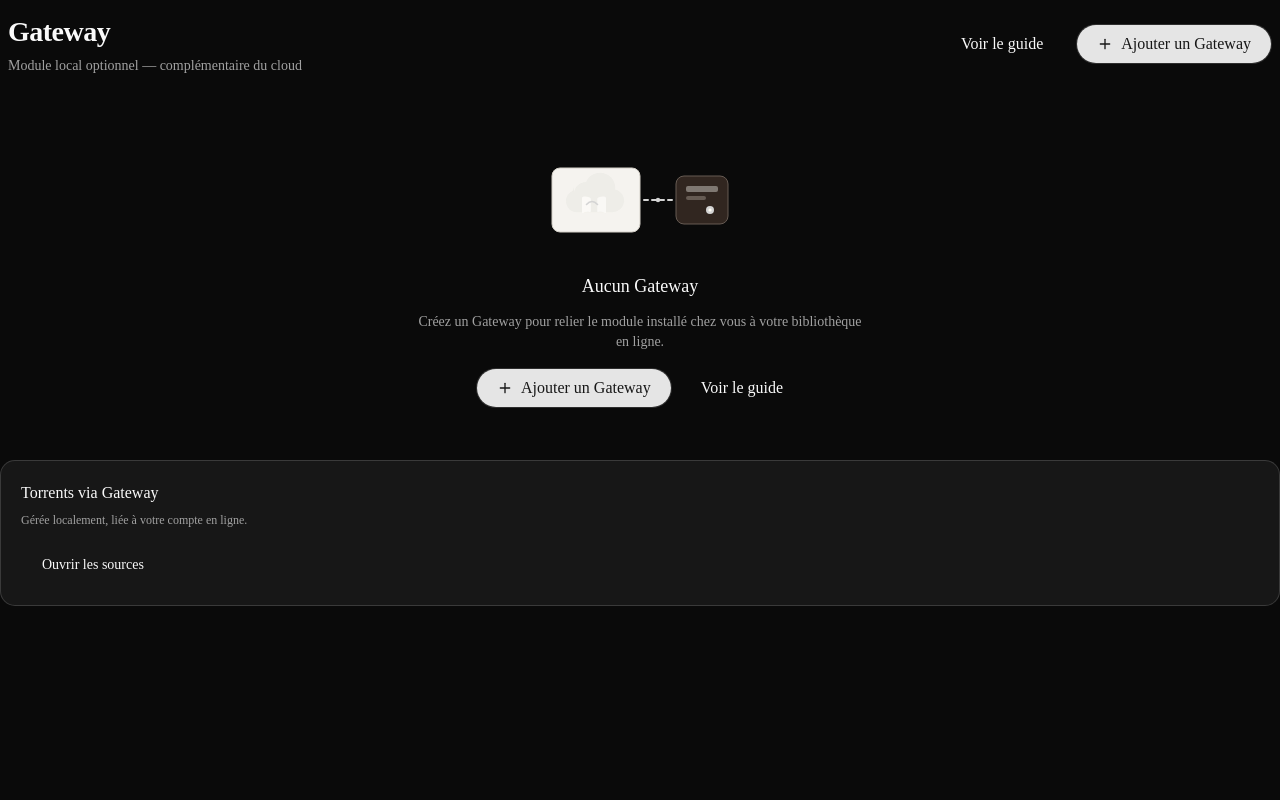
Scenario: UI harness — gateways › shows both secrets in the created credentials panel
Click the 1st button "Ajouter un Gateway".
click(1174, 44)  # box x1=1076 y1=24 x2=1272 y2=64
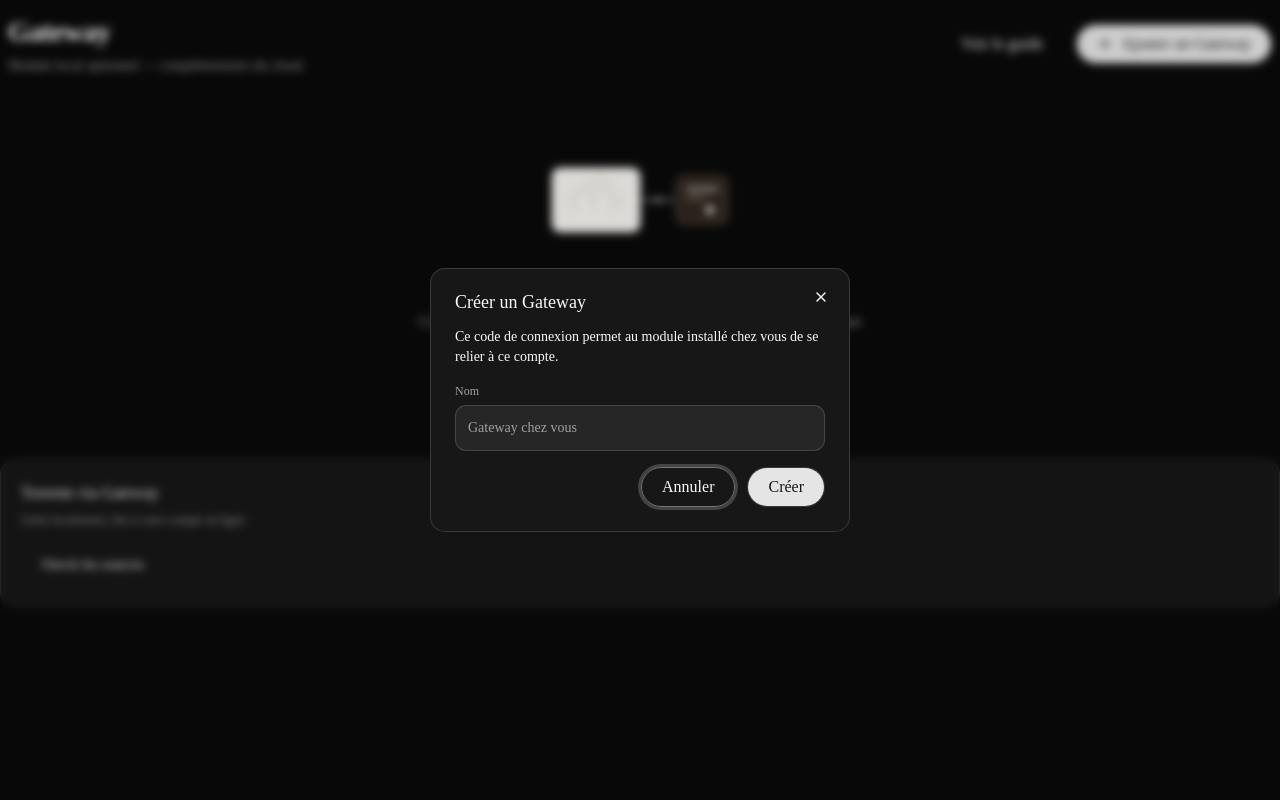
Check: the field labelled "Nom" is shown, box x1=455 y1=405 x2=825 y2=451
Click the button "Créer".
click(786, 487)  # box x1=748 y1=467 x2=825 y2=507
(page scrolled)
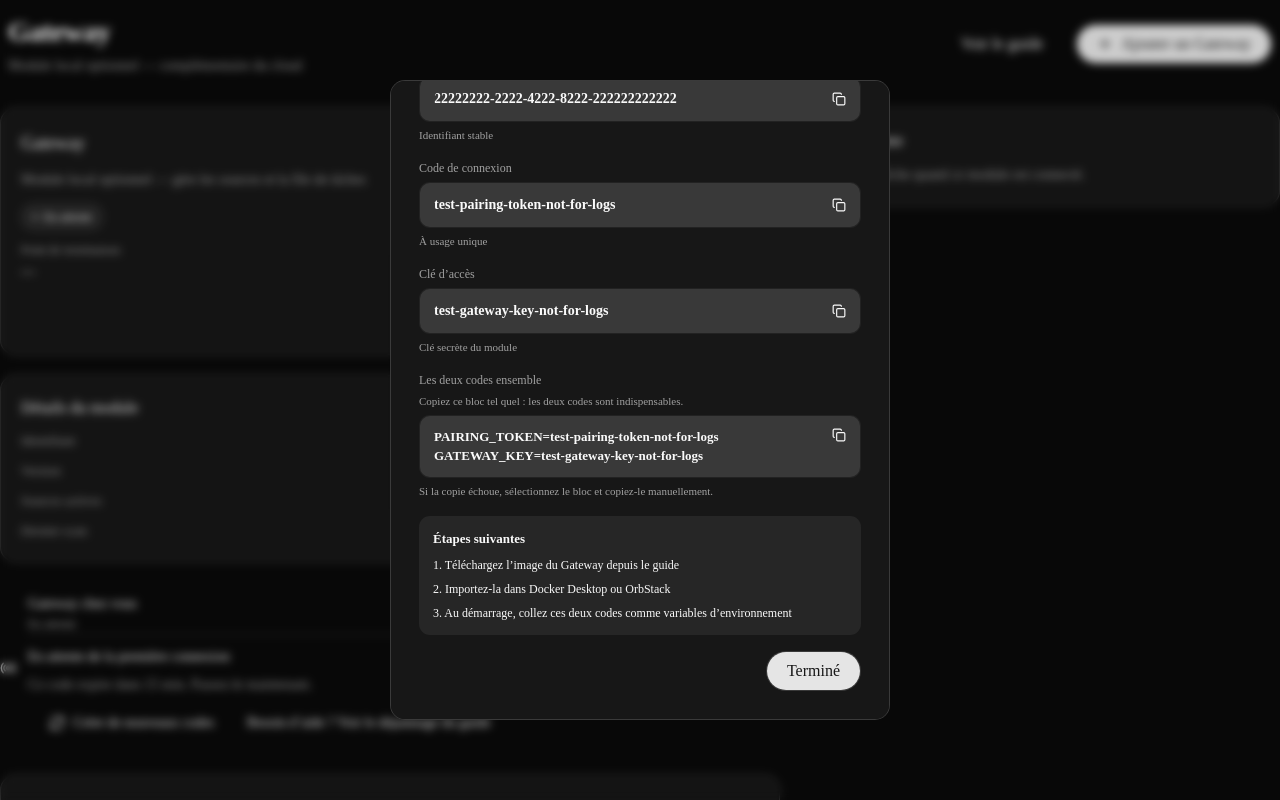
Check: the element that starts with "Valable 15 min" is shown, box x1=419 y1=80 x2=861 y2=635
Check: the text "PAIRING_TOKEN=" is shown, box x1=434 y1=429 x2=718 y2=463
Check: the text "GATEWAY_KEY=" is shown, box x1=434 y1=429 x2=718 y2=463
